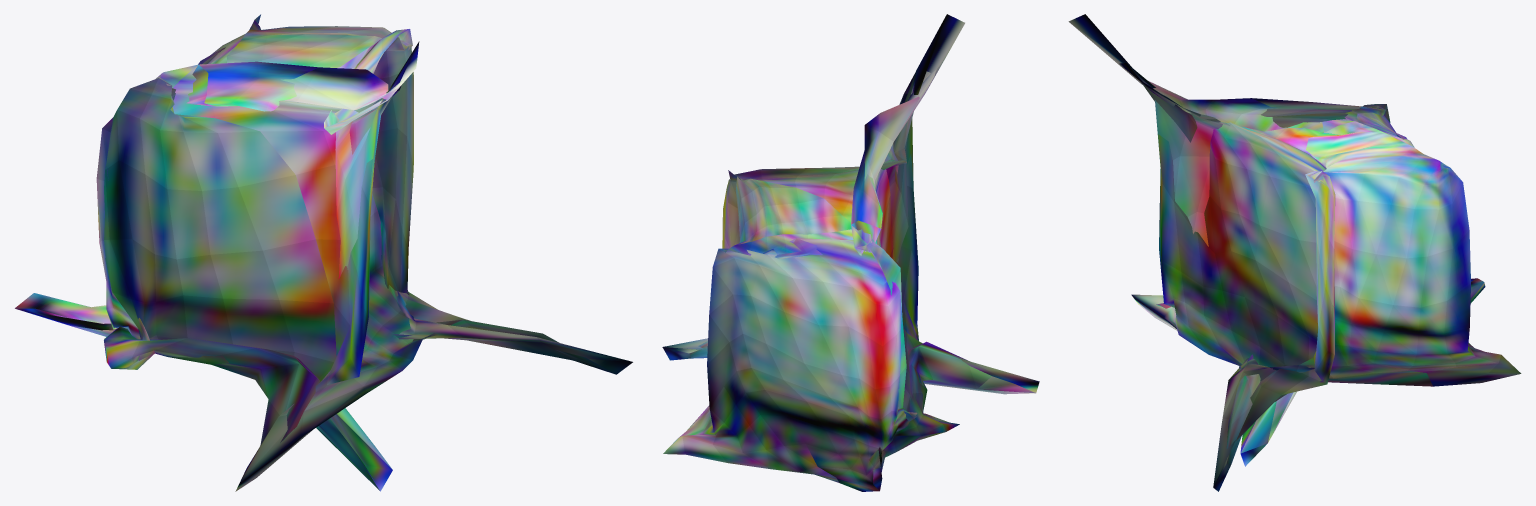
3 views of the same model, side by side, from view 1: azimuth 30°, elevation 25°; view 2: azimuth 150°, elevation 25°; view 3: azimuth 270°, elevation 25° (orthographic). The views are drawn at different scales.
Parts seen in each view (by area): view 1: pMesh1; view 2: pMesh1; view 3: pMesh1.
Boxes of the visible parts, x1,y1,x2,y2 form: pMesh1: (15,14,632,491); pMesh1: (662,14,1039,491); pMesh1: (1068,14,1521,491).
Size of the model in its own units: 2.55 by 2.87 by 2.75.
1 material, 1 textured.
